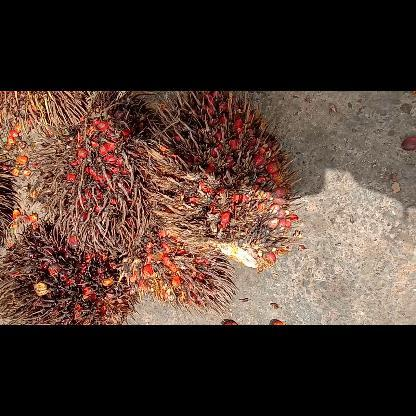Terlalu masak: (136, 91, 306, 275), (22, 91, 172, 263), (0, 216, 142, 324), (117, 210, 242, 322)
